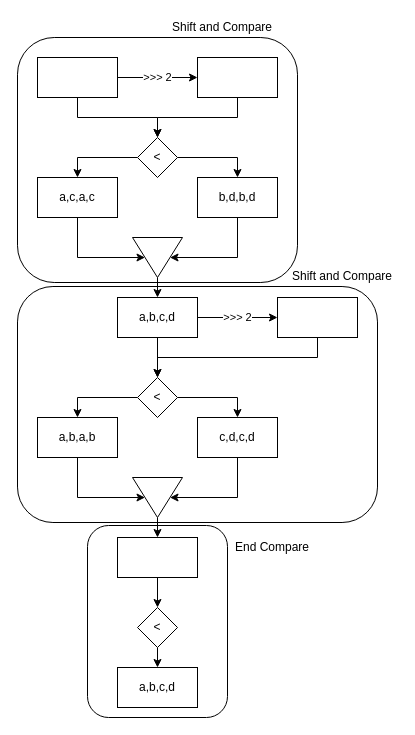
Image size: 415x735. Some labels were removed from this diagram. The centre of each missing label's shape, as x and y in pixels:
"a,c,b,d" goes at (x=157, y=557).
"a,d,b,c" goes at (x=77, y=77).
"b,c,a,d" goes at (x=237, y=77).
"c,d,a,b" goes at (x=317, y=317).
